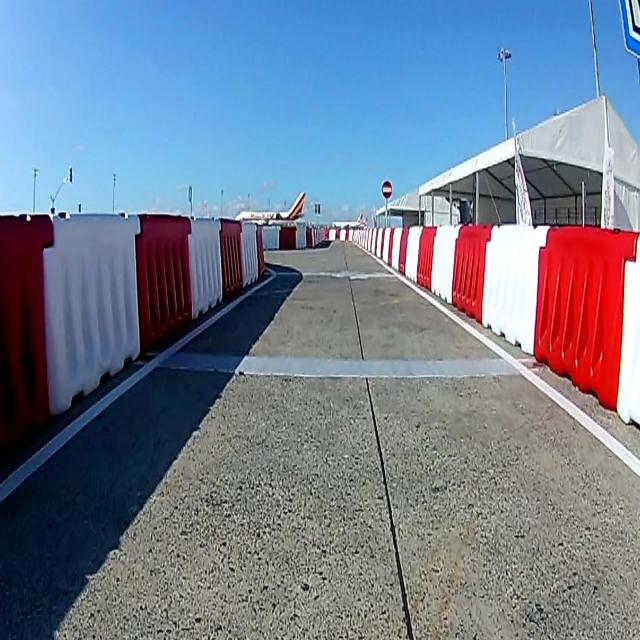girisyok: (381, 180, 393, 200)
